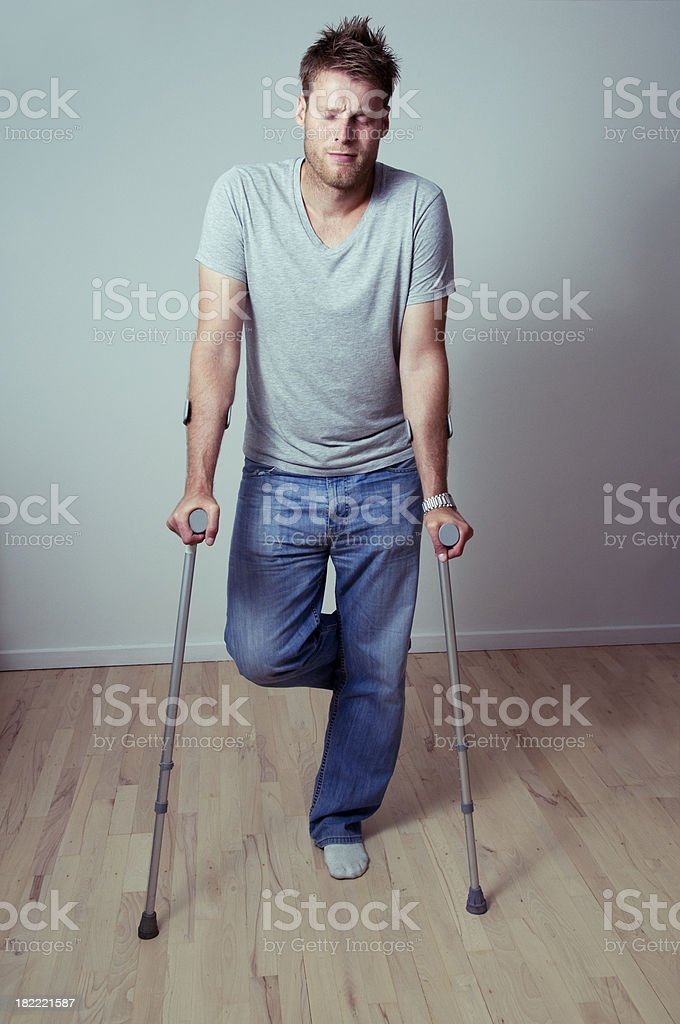crutches: (134, 16, 491, 939)
